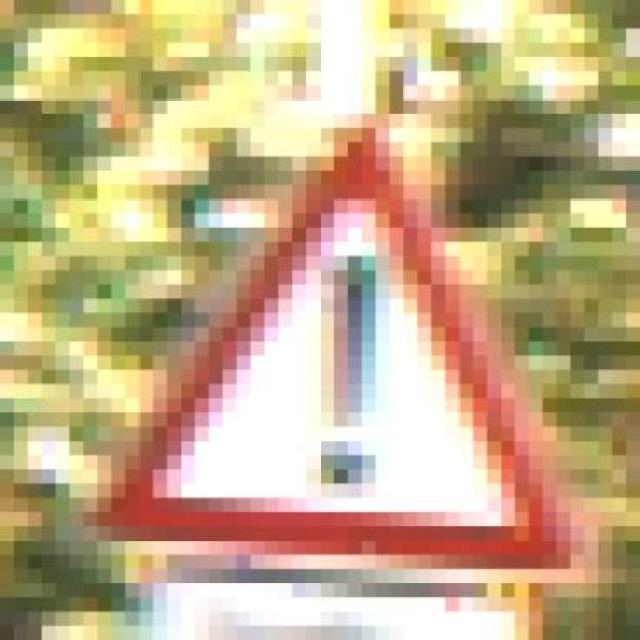Attention Please-: (83, 99, 585, 584)
